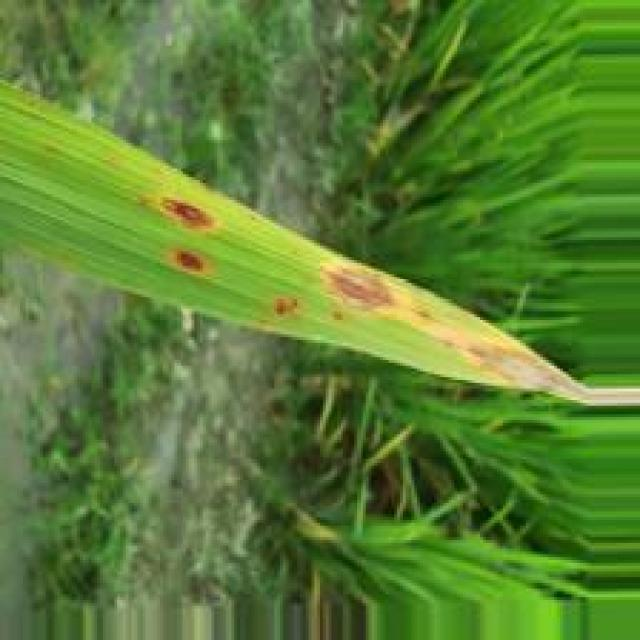Brown_Spot: (458, 340, 587, 397), (319, 259, 404, 315), (156, 191, 229, 235), (271, 294, 307, 318)
